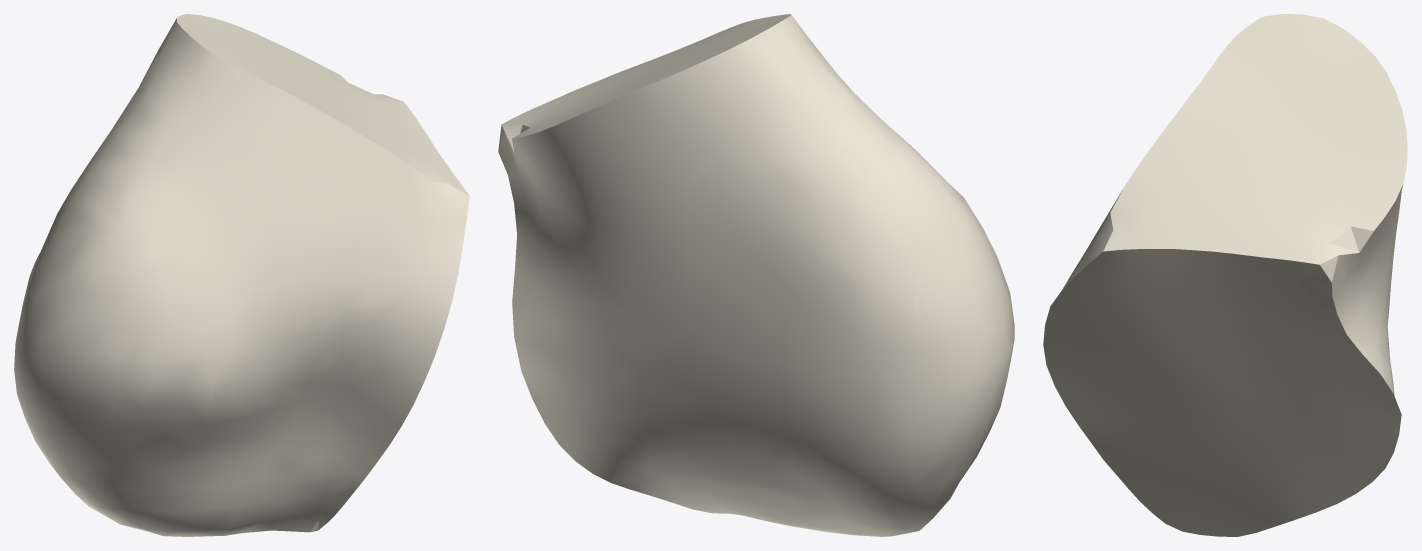
The model's file is fma23444_mm1589.glb.
3 renders of one model, left to right at view 1: azimuth 30°, elevation 25°; view 2: azimuth 150°, elevation 25°; view 3: azimuth 270°, elevation 25°, orthographic. The views are drawn at different scales.
Visible parts, largest first — view 1: FMA23444_MM1589; view 2: FMA23444_MM1589; view 3: FMA23444_MM1589.
Part boxes in pixels (left/top/right/bottom): FMA23444_MM1589: left=14, top=14, right=469, bottom=536; FMA23444_MM1589: left=498, top=14, right=1014, bottom=536; FMA23444_MM1589: left=1043, top=14, right=1407, bottom=536.
Bounding box in the file's own units: 0.0233 × 0.026 × 0.0177.
